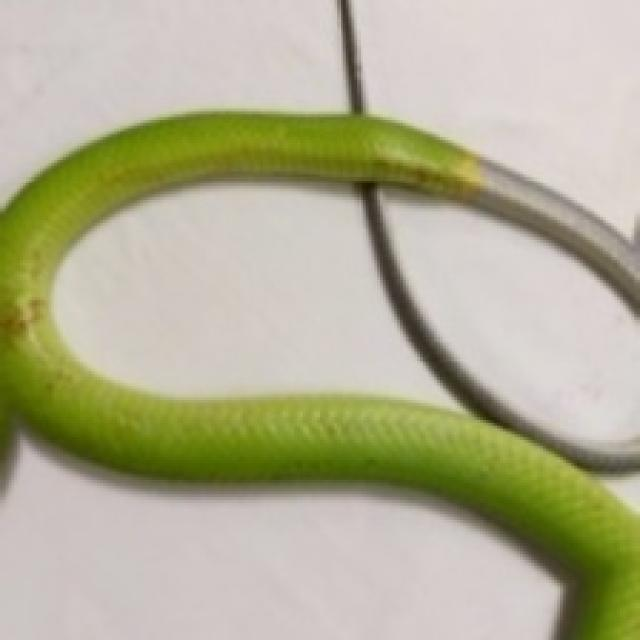red-tailed green ratsnake: (0, 111, 637, 637)
